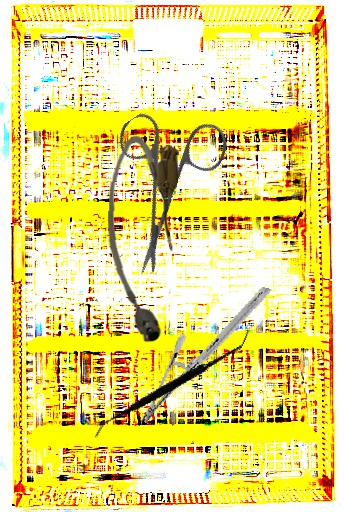Cannula: (103, 135, 180, 345)
Iris Scissors: (66, 80, 267, 279)
Needle Holder: (138, 265, 272, 445)
Spatula Surgical: (93, 289, 250, 479)
